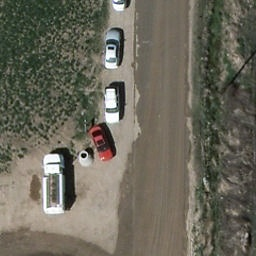car: (87, 127, 117, 162), (103, 85, 123, 124), (105, 26, 123, 69), (109, 0, 130, 16)
truck: (41, 153, 67, 215)
